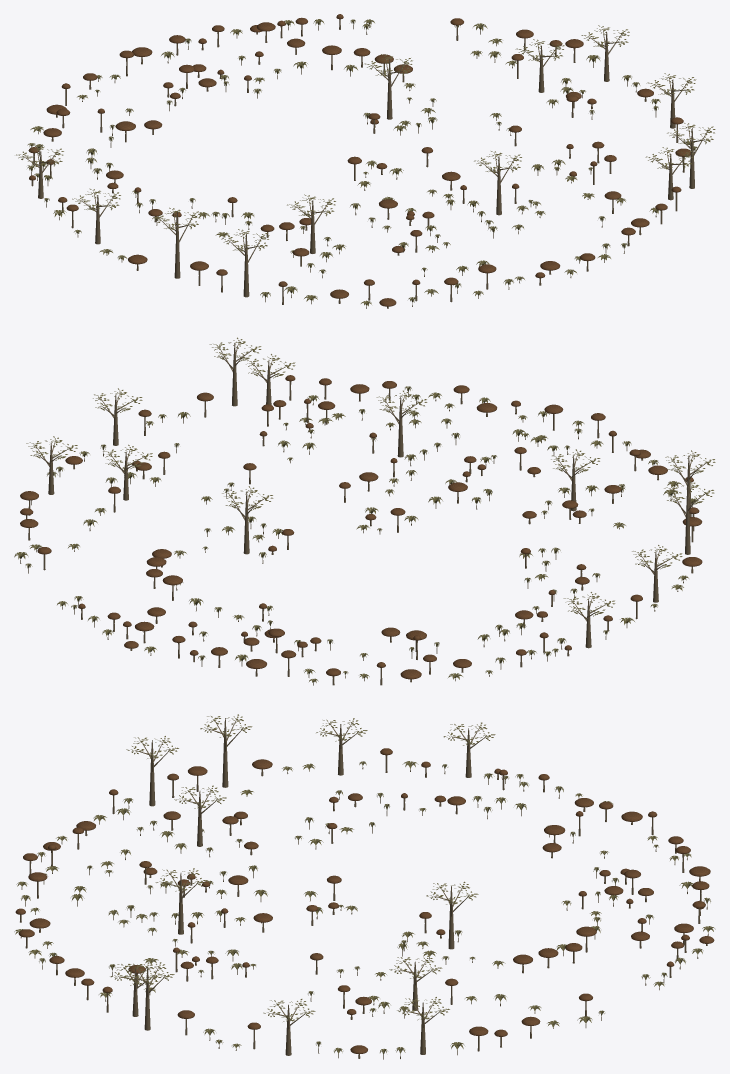
Rendered from forest_vegetation_v8.glb.
3 views of the same model, one above another, from view 1: azimuth 30°, elevation 25°; view 2: azimuth 150°, elevation 25°; view 3: azimuth 270°, elevation 25° (orthographic). The views are drawn at different scales.
Parts seen in each view (by area): view 1: Complete_Vegetation_Papery leaf pigment, Complete_Vegetation_Woodland cap ochre, Complete_Vegetation_Fibrous rooted stems; view 2: Complete_Vegetation_Papery leaf pigment, Complete_Vegetation_Woodland cap ochre, Complete_Vegetation_Fibrous rooted stems; view 3: Complete_Vegetation_Woodland cap ochre, Complete_Vegetation_Papery leaf pigment, Complete_Vegetation_Fibrous rooted stems.
Boxes of the visible parts, x1=… form: Complete_Vegetation_Papery leaf pigment: x1=16, y1=19, x2=715, y2=306; Complete_Vegetation_Woodland cap ochre: x1=28, y1=14, x2=690, y2=306; Complete_Vegetation_Fibrous rooted stems: x1=23, y1=19, x2=707, y2=308; Complete_Vegetation_Papery leaf pigment: x1=14, y1=337, x2=715, y2=682; Complete_Vegetation_Woodland cap ochre: x1=20, y1=375, x2=702, y2=679; Complete_Vegetation_Fibrous rooted stems: x1=20, y1=343, x2=706, y2=685; Complete_Vegetation_Woodland cap ochre: x1=15, y1=748, x2=714, y2=1054; Complete_Vegetation_Papery leaf pigment: x1=14, y1=714, x2=715, y2=1054; Complete_Vegetation_Fibrous rooted stems: x1=20, y1=718, x2=708, y2=1059.
Size of the model in its own units: 69.56 by 7.98 by 68.26.
Materials: 3 (2 with a texture image).
